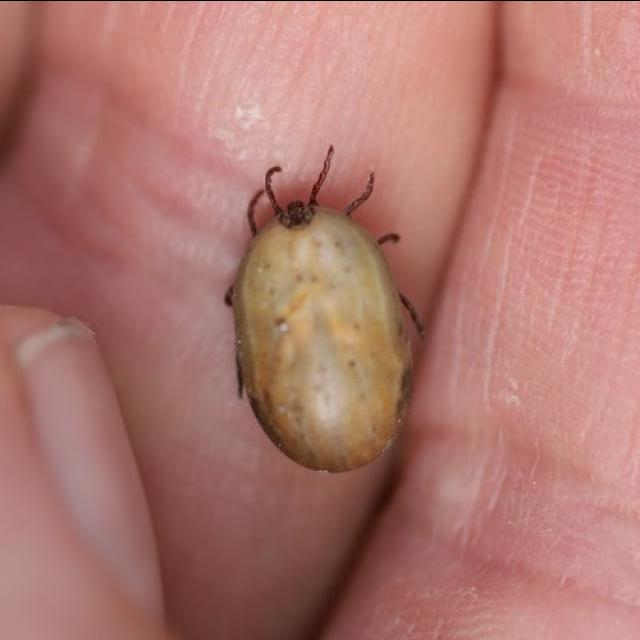Dermacentor Reticulatus-F-Fed: (224, 145, 425, 471)
